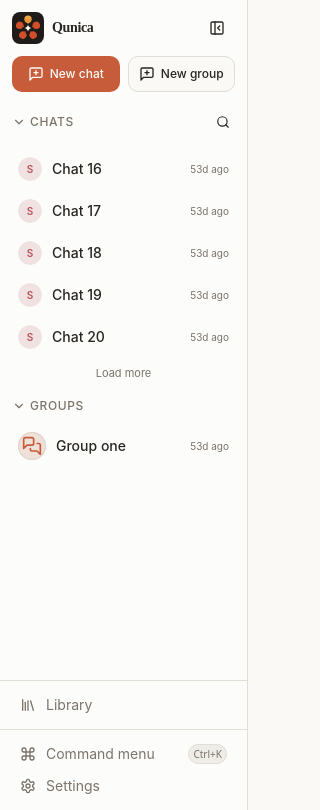
Scenario: AppSidebar terminal cleanup › collapses both sections and mounts long lists in batches
This screenshot has width=320, height=810.
(page scrolled)
Expected: the text "Chat 20" is shown, x1=52 y1=328 x2=105 y2=345
Expected: the text "Chat 21" is not shown
Click the button "Load more": x=124, y=373 x1=8 y1=359 x2=239 y2=388
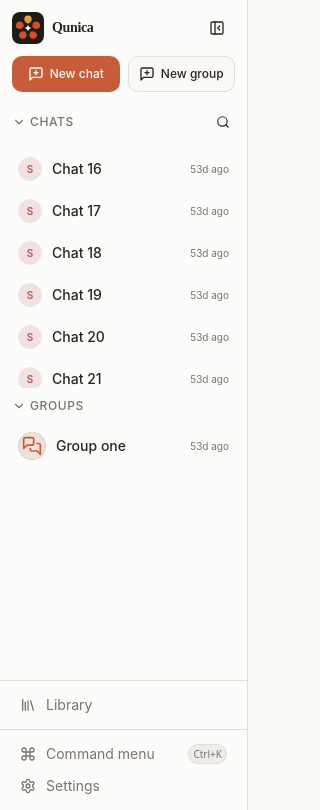
Click the button "Chats": x=112, y=122 x1=12 y1=114 x2=211 y2=130
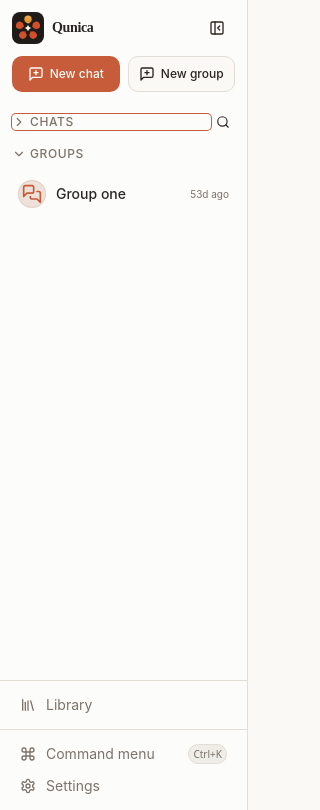
Click the button "Groups": x=124, y=154 x1=12 y1=146 x2=235 y2=162
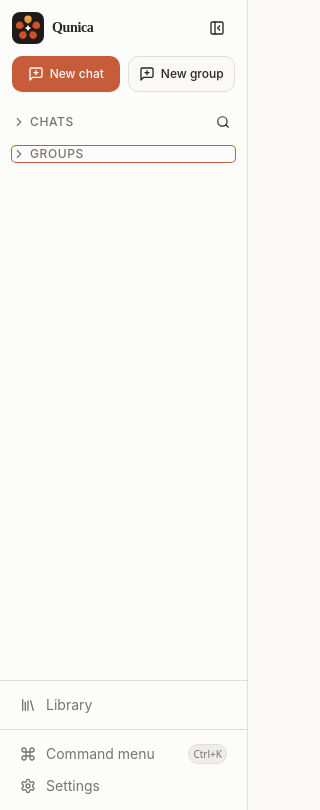
Now the link "Group one" is gone
